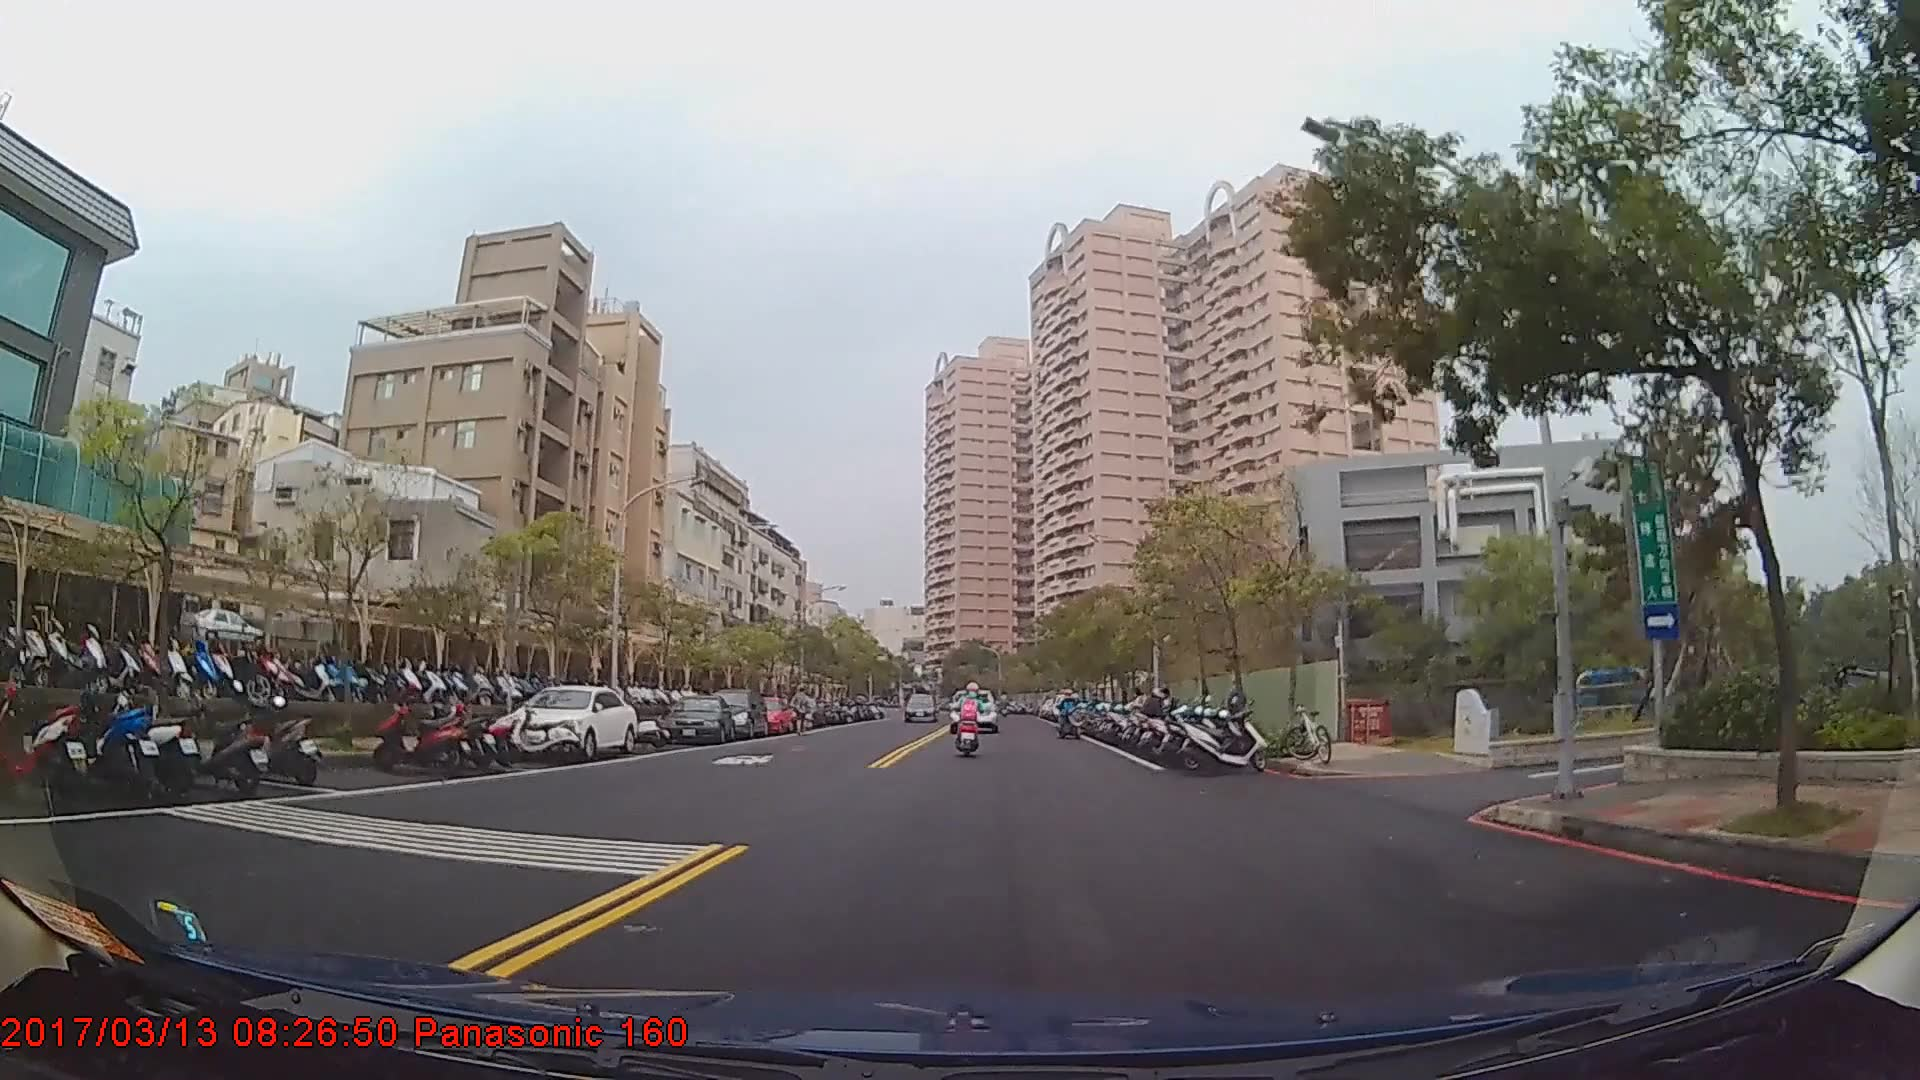pedestrian: (1137, 675, 1173, 749), (1226, 681, 1250, 734), (791, 688, 815, 739)
rider: (957, 680, 986, 751), (1057, 690, 1081, 739)
vehicle: (510, 684, 638, 759), (660, 693, 732, 744), (705, 687, 768, 738), (947, 687, 998, 732), (902, 692, 938, 720)
